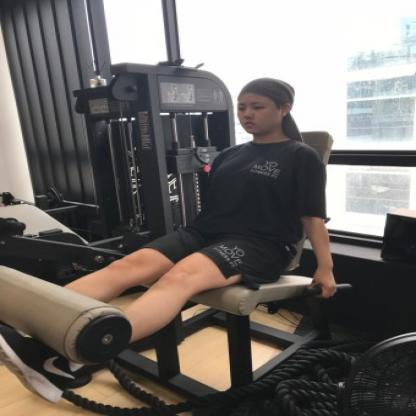leg extension: (0, 44, 378, 415)
